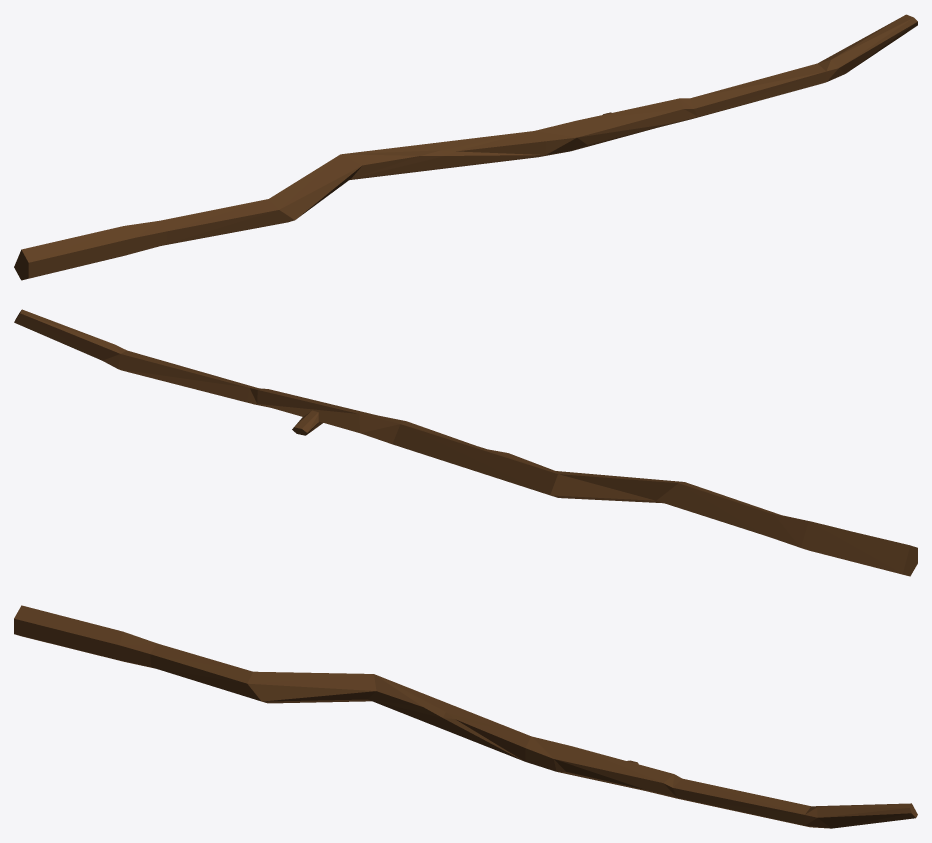
File: tree-spruce-branch-b.gltf
3 renders of one model, top to bottom at view 1: azimuth 30°, elevation 25°; view 2: azimuth 150°, elevation 25°; view 3: azimuth 330°, elevation 25°, orthographic.
Parts seen in each view (by area): view 1: tree-spruce-branch-b; view 2: tree-spruce-branch-b; view 3: tree-spruce-branch-b.
Part boxes in pixels (x1=…): tree-spruce-branch-b: x1=14, y1=14, x2=917, y2=280; tree-spruce-branch-b: x1=14, y1=309, x2=917, y2=576; tree-spruce-branch-b: x1=14, y1=605, x2=917, y2=828.
Bounding box in the file's own units: 0.0216 × 0.00111 × 0.00159.
